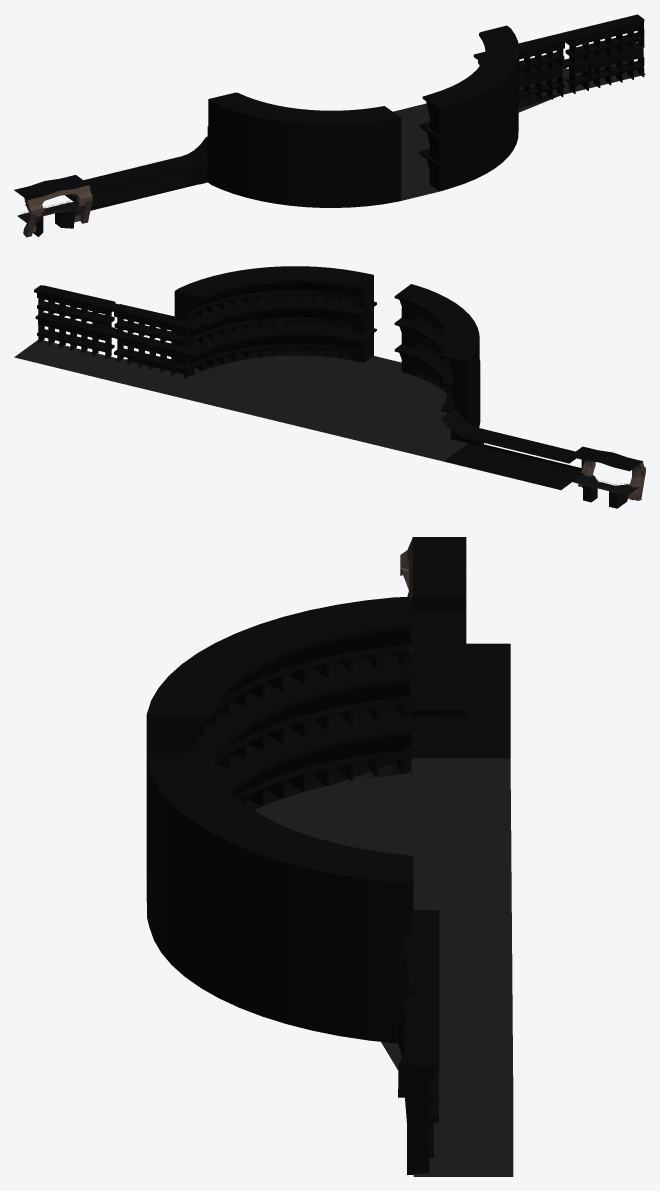
The model's file is jail main.fbx.
The picture shows the model from 3 angles, top to bottom: view 1: azimuth 30°, elevation 25°; view 2: azimuth 150°, elevation 25°; view 3: azimuth 270°, elevation 25°; orthographic projection. The views are drawn at different scales.
Visible parts, largest first — view 1: jail main; view 2: jail main; view 3: jail main.
Part boxes in pixels (bbox=[...]): jail main: bbox=[14, 14, 645, 237]; jail main: bbox=[14, 266, 645, 508]; jail main: bbox=[146, 537, 513, 1176].
Bounding box in the file's own units: 48267 × 7446 × 12688.
